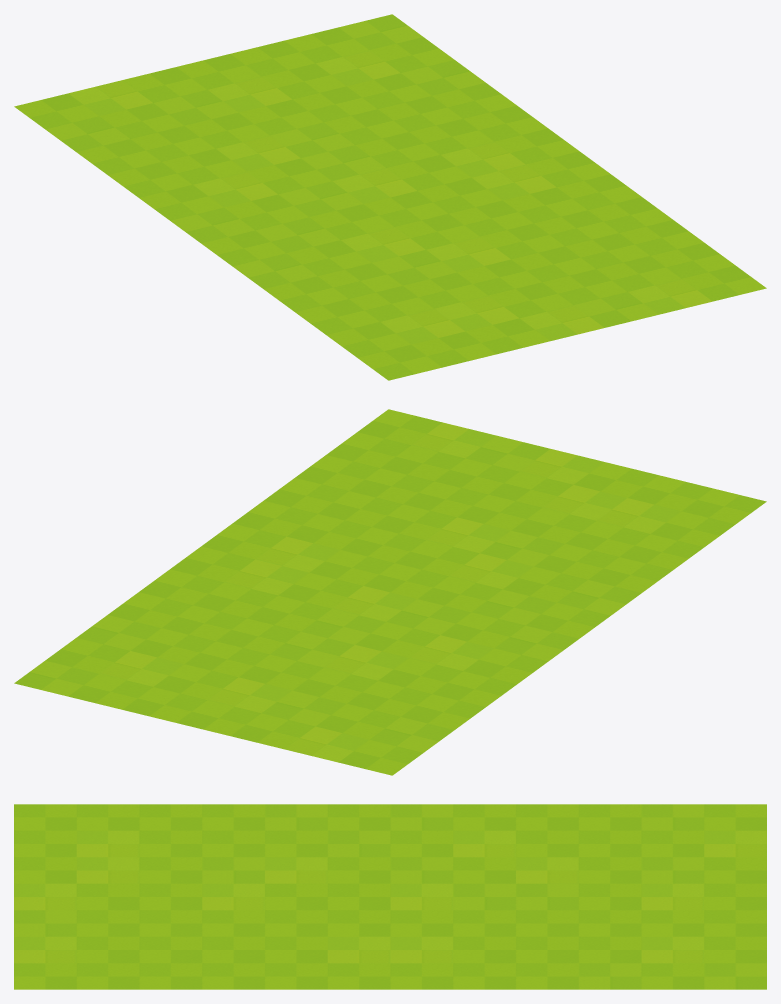
Rendered from Grass (merge).fbx.
The picture shows the model from 3 angles, top to bottom: view 1: azimuth 30°, elevation 25°; view 2: azimuth 150°, elevation 25°; view 3: azimuth 270°, elevation 25°; orthographic projection.
Parts seen in each view (by area): view 1: Ground_0101; view 2: Ground_0101; view 3: Ground_0101.
Boxes of the visible parts, left/top/right/bottom form: Ground_0101: left=14, top=14, right=766, bottom=380; Ground_0101: left=14, top=409, right=766, bottom=775; Ground_0101: left=14, top=804, right=766, bottom=989.
Bounding box in the file's own units: 14 × 1.47e-15 × 24.
Materials: 3 (3 with a texture image).
